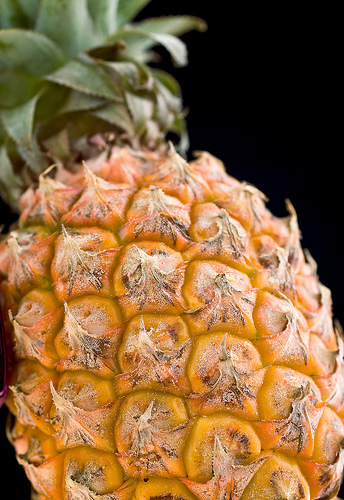pineapple: (0, 0, 342, 498)
